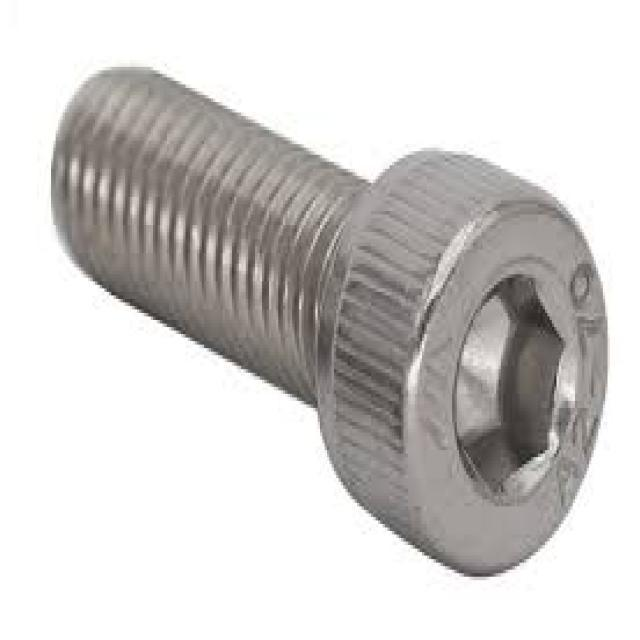allen: (405, 193, 611, 574)
